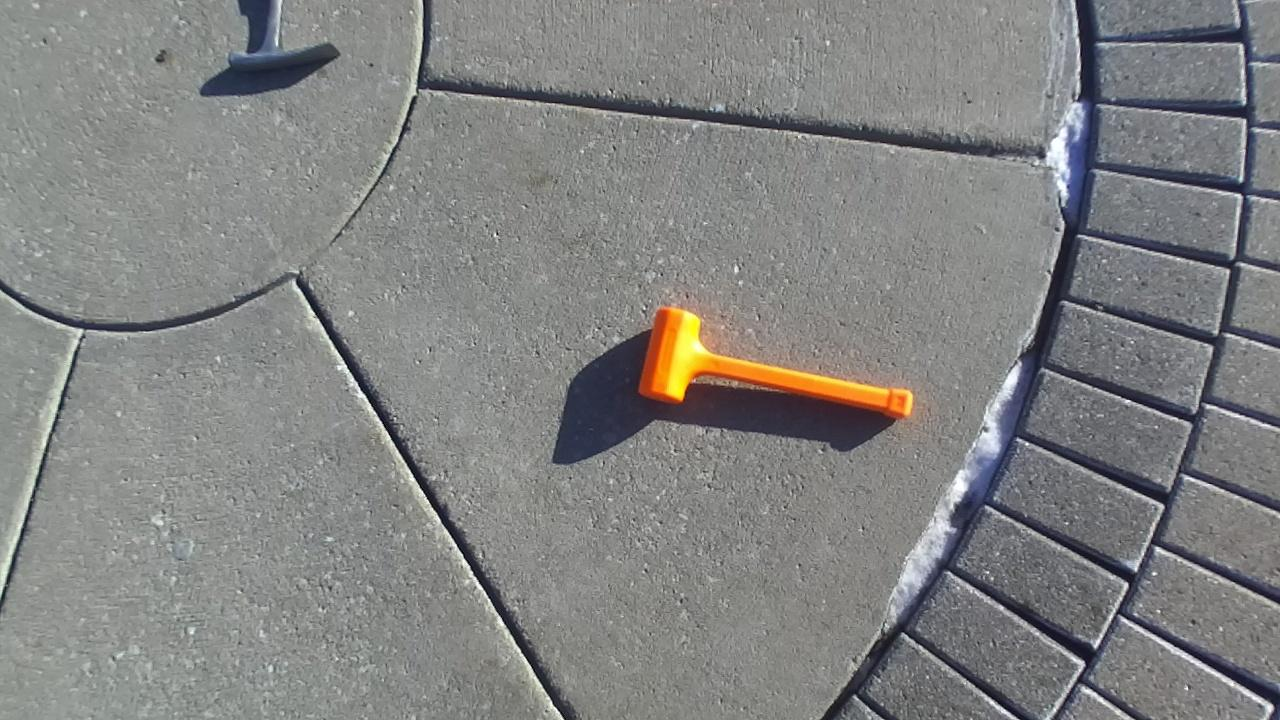mallet: (640, 307, 913, 418)
pick: (228, 0, 339, 70)
